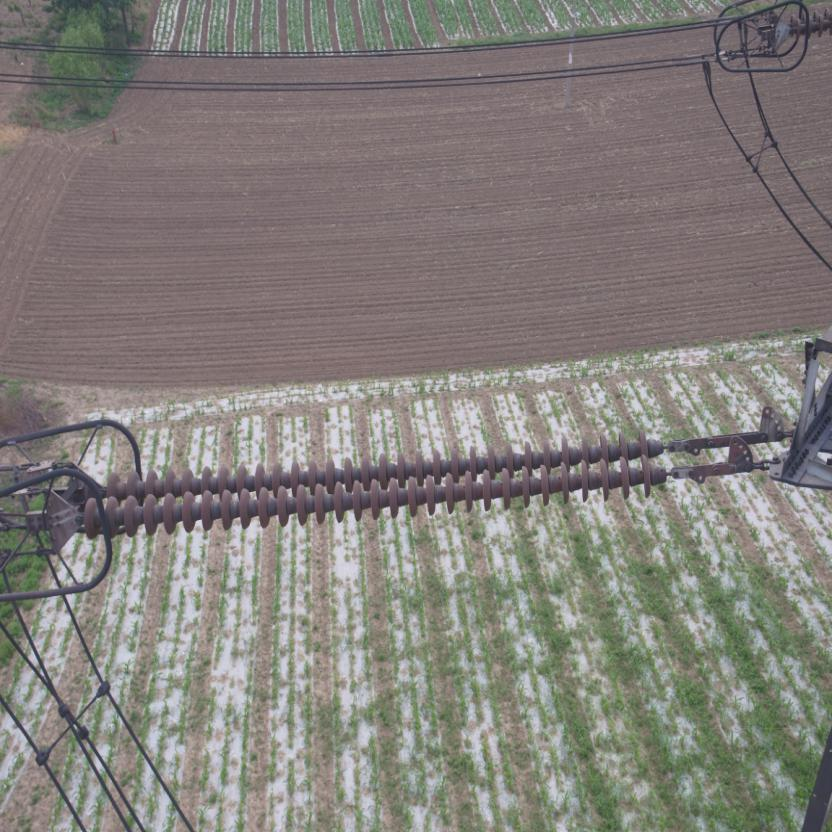insulator: (61, 423, 715, 545)
